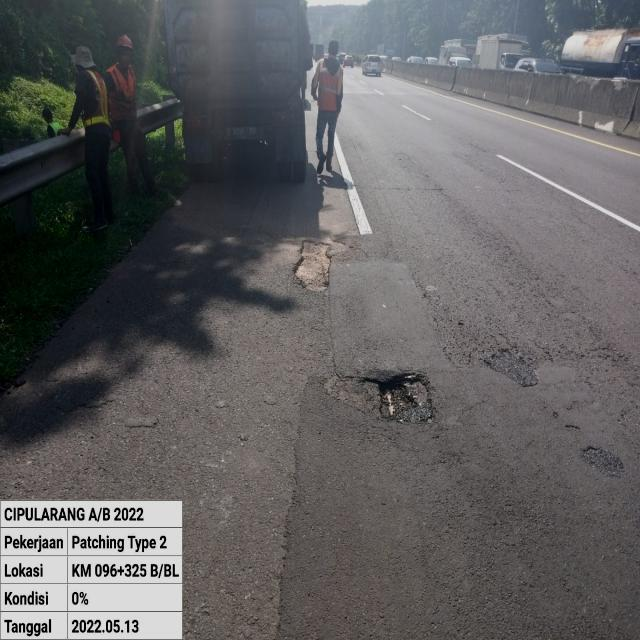Buraco: (354, 368, 442, 428), (290, 238, 335, 295)
